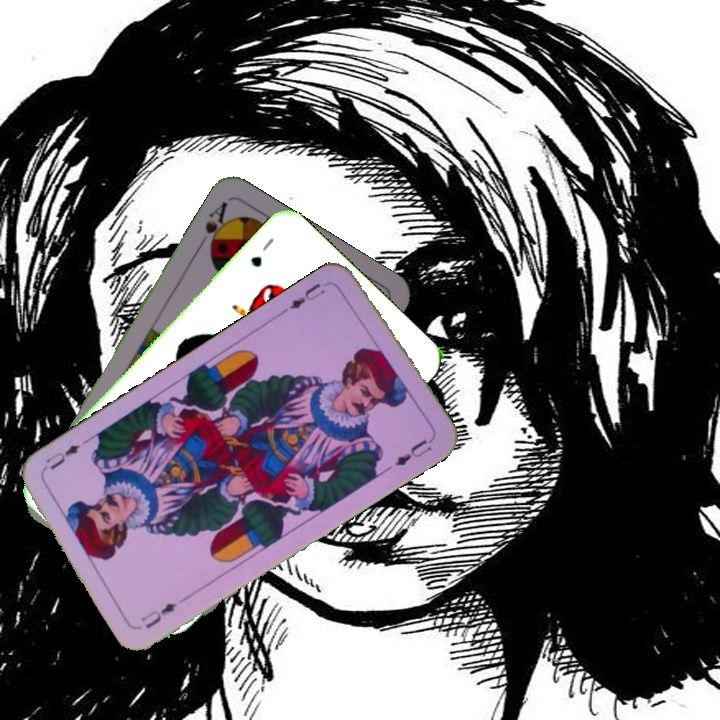EU: (280, 279, 328, 315), (136, 598, 179, 631)
GU: (246, 233, 277, 270)
SA: (194, 197, 234, 256)
